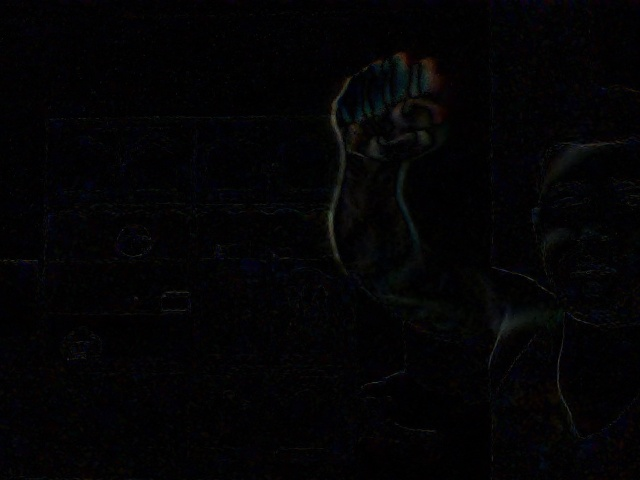hand_fi: (336, 41, 444, 161)
